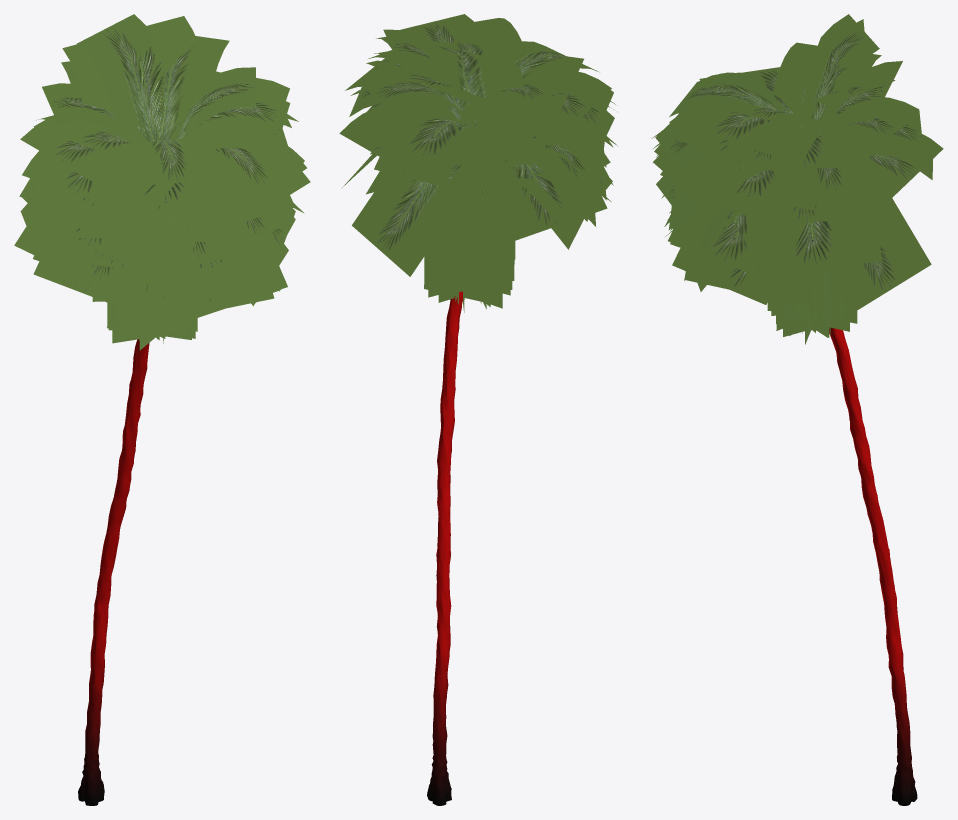
Rendered from Palm_1_13.fbx.
3 renders of one model, left to right at view 1: azimuth 30°, elevation 25°; view 2: azimuth 150°, elevation 25°; view 3: azimuth 270°, elevation 25°, orthographic. The views are drawn at different scales.
Parts seen in each view (by area): view 1: Palm_1_13; view 2: Palm_1_13; view 3: Palm_1_13.
Part boxes in pixels (x1,y1,x2,y2): Palm_1_13: [14, 14, 310, 805]; Palm_1_13: [339, 14, 618, 805]; Palm_1_13: [651, 14, 943, 805].
Size of the model in its own units: 1771 by 5144 by 1787.
